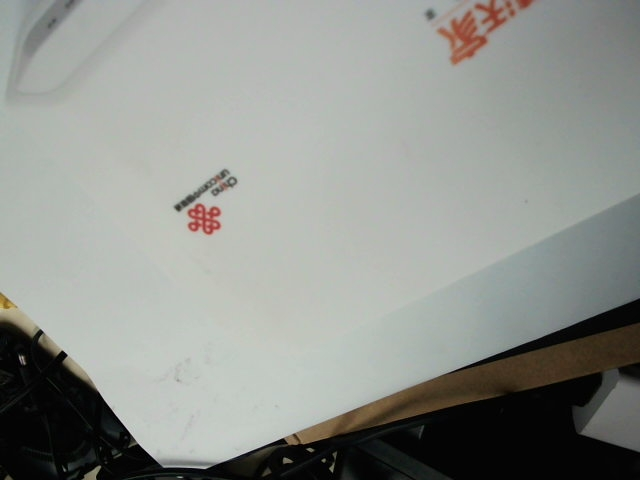ChinaUnicom: (159, 159, 251, 242)
